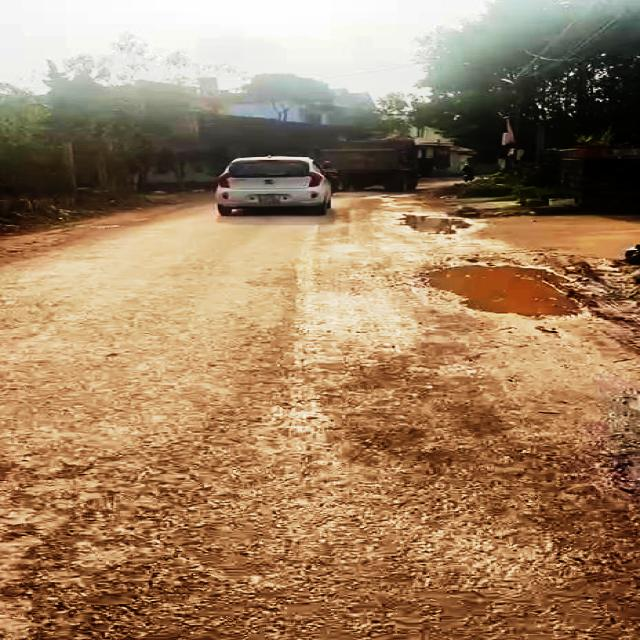pothole: (429, 258, 588, 325), (398, 213, 470, 236)
